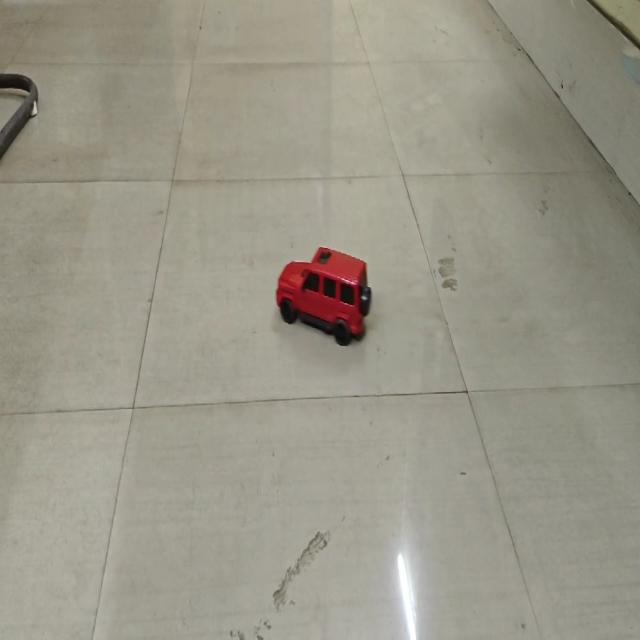light_vehicle: (275, 240, 372, 346)
